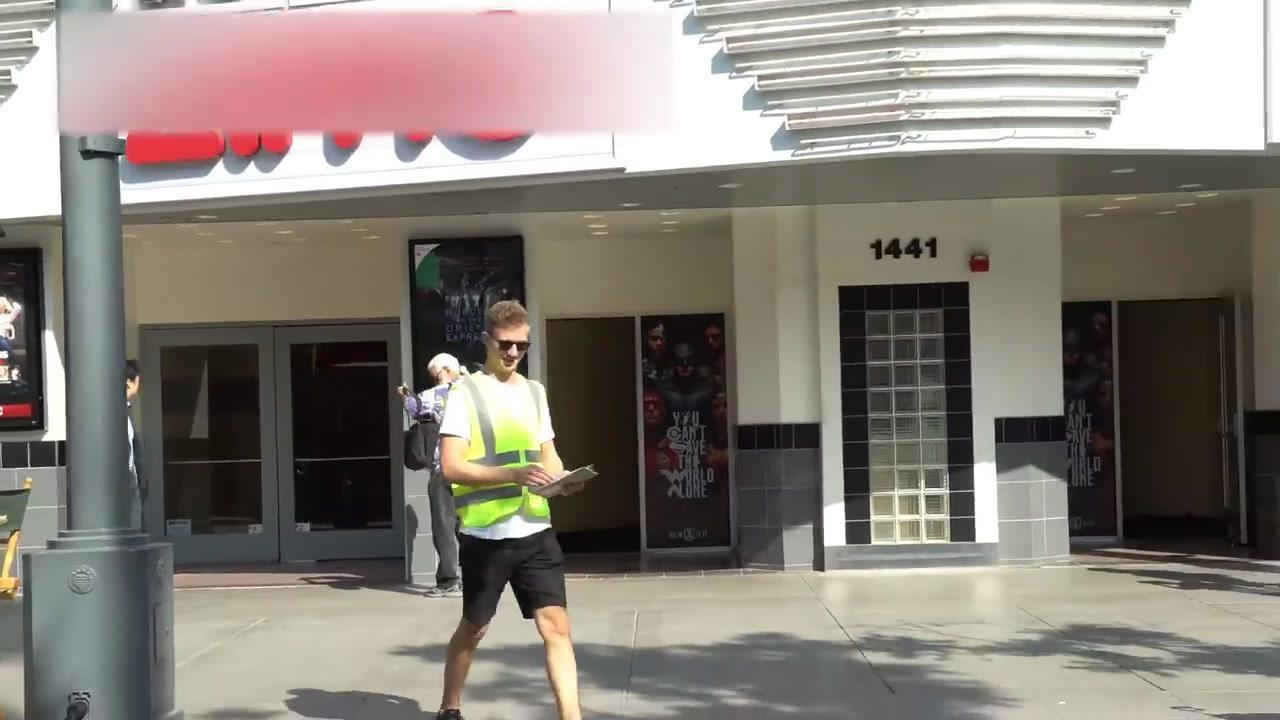vest: (450, 371, 553, 528)
